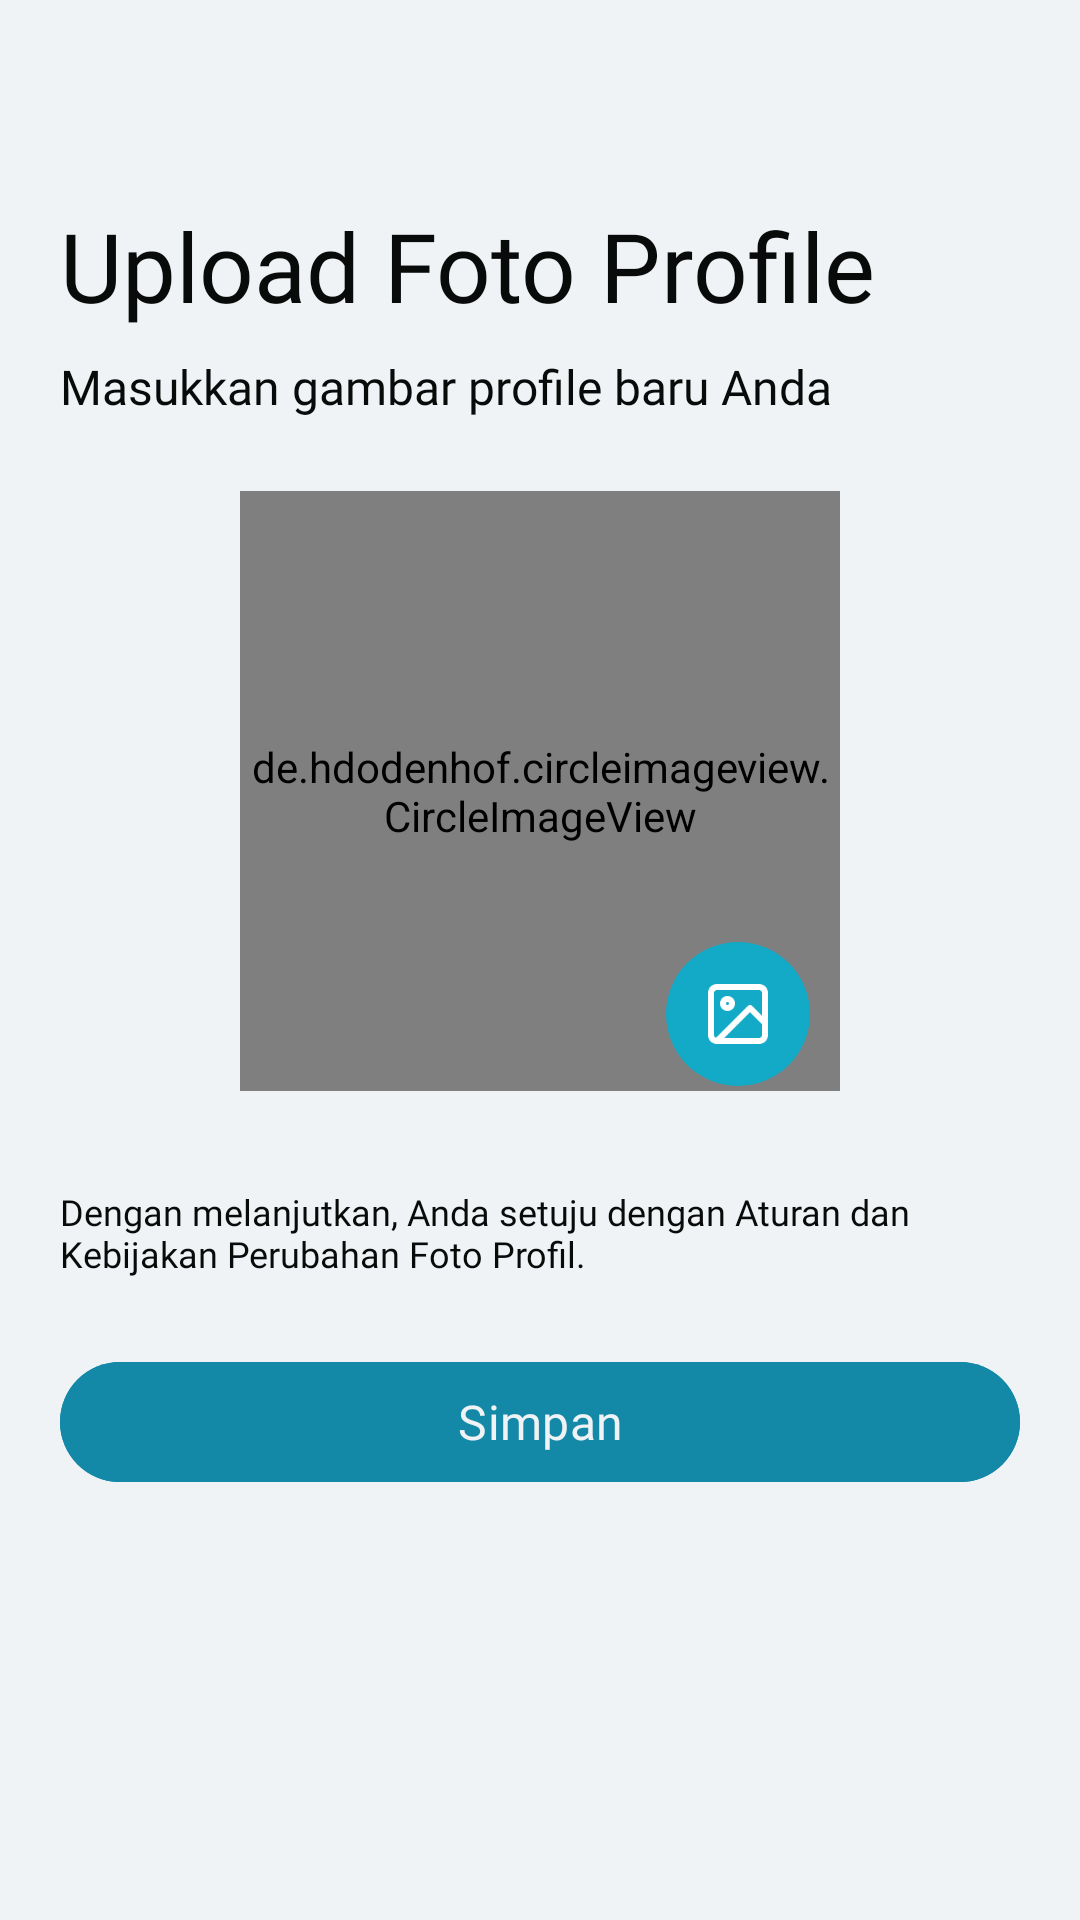

Where icons sit on this 1080×1920 app screen, as (x1, y1, x2, y2):
gallery: (708, 984, 768, 1044)
